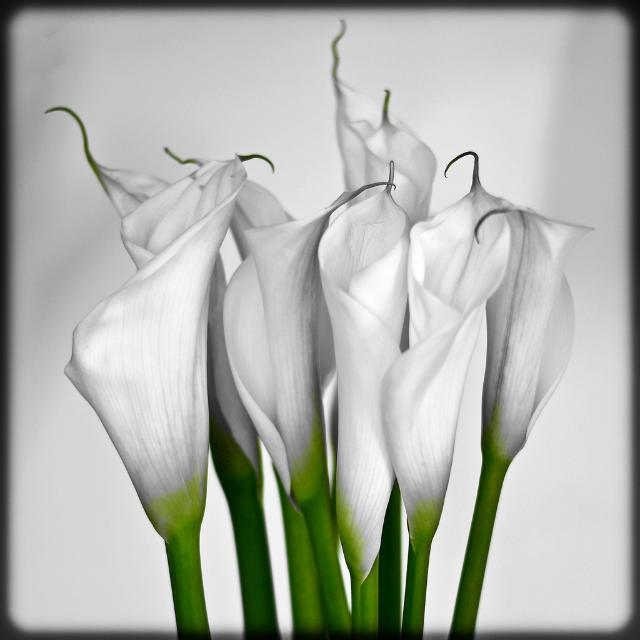Flower: (42, 17, 594, 579), (65, 155, 271, 640)
